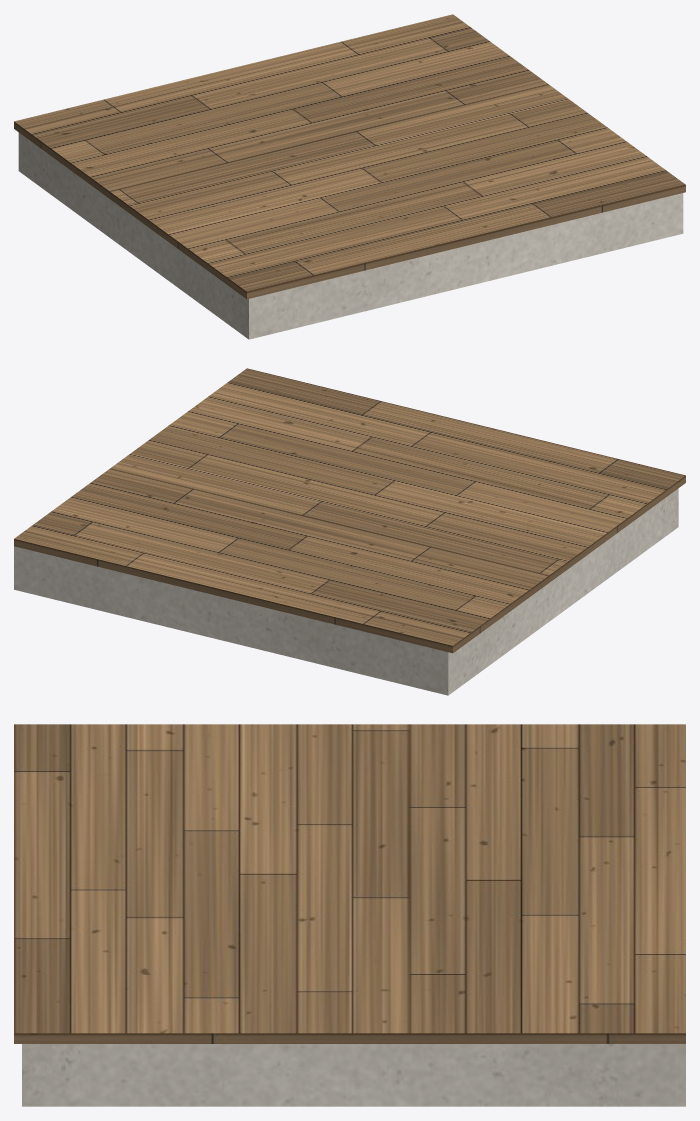
The model's file is floor_wood_c_e0_15_30_0.glb.
The picture shows the model from 3 angles, top to bottom: view 1: azimuth 30°, elevation 25°; view 2: azimuth 150°, elevation 25°; view 3: azimuth 270°, elevation 25°; orthographic projection. The views are drawn at different scales.
Visible parts, largest first — view 1: floor_wood_c_e0_15_30_0_attic, floor_wood_c_e0_15_30_0_plaster; view 2: floor_wood_c_e0_15_30_0_attic, floor_wood_c_e0_15_30_0_plaster; view 3: floor_wood_c_e0_15_30_0_attic, floor_wood_c_e0_15_30_0_plaster.
Part boxes in pixels (<box>): floor_wood_c_e0_15_30_0_attic: <box>14,14,685,299</box>; floor_wood_c_e0_15_30_0_plaster: <box>18,132,683,339</box>; floor_wood_c_e0_15_30_0_attic: <box>14,368,685,653</box>; floor_wood_c_e0_15_30_0_plaster: <box>14,488,678,695</box>; floor_wood_c_e0_15_30_0_attic: <box>14,724,685,1043</box>; floor_wood_c_e0_15_30_0_plaster: <box>22,1044,685,1106</box>.
Size of the model in its own units: 1.85 by 0.205 by 1.7.
Materials: 2 (2 with a texture image).
